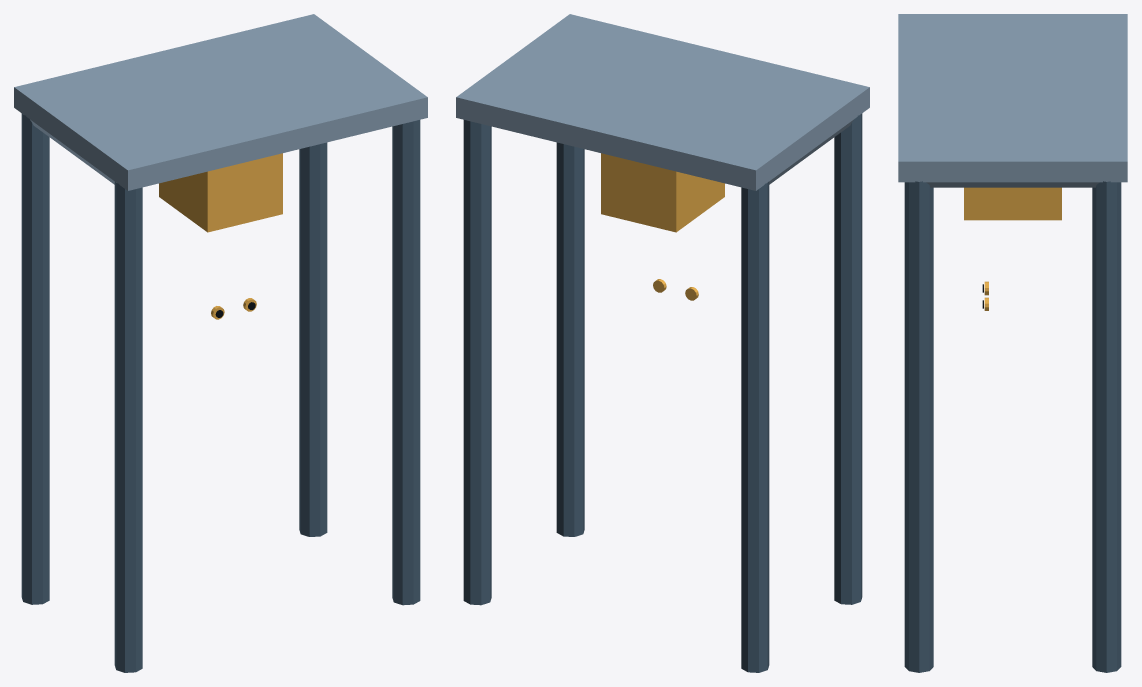
Rendered from 10_L92_SamplingServiceGantry.fbx.
3 renders of one model, left to right at view 1: azimuth 30°, elevation 25°; view 2: azimuth 150°, elevation 25°; view 3: azimuth 270°, elevation 25°, orthographic.
Parts seen in each view (by area): view 1: L92_SamplingServiceGantry, L92_SamplingServiceGantry_Part_0002, L92_SamplingServiceGantry_Part_0003; view 2: L92_SamplingServiceGantry, L92_SamplingServiceGantry_Part_0002, L92_SamplingServiceGantry_Part_0003; view 3: L92_SamplingServiceGantry_Part_0002, L92_SamplingServiceGantry, L92_SamplingServiceGantry_Part_0003.
Boxes of the visible parts, x1=… form: L92_SamplingServiceGantry: x1=21, y1=113, x2=420, y2=672; L92_SamplingServiceGantry_Part_0002: x1=14, y1=14, x2=427, y2=190; L92_SamplingServiceGantry_Part_0003: x1=159, y1=153, x2=282, y2=232; L92_SamplingServiceGantry: x1=463, y1=113, x2=862, y2=672; L92_SamplingServiceGantry_Part_0002: x1=456, y1=14, x2=869, y2=190; L92_SamplingServiceGantry_Part_0003: x1=601, y1=153, x2=724, y2=232; L92_SamplingServiceGantry_Part_0002: x1=898, y1=14, x2=1127, y2=182; L92_SamplingServiceGantry: x1=904, y1=181, x2=1121, y2=672; L92_SamplingServiceGantry_Part_0003: x1=964, y1=187, x2=1061, y2=220.
Size of the model in its own units: 338 by 541 by 220.
